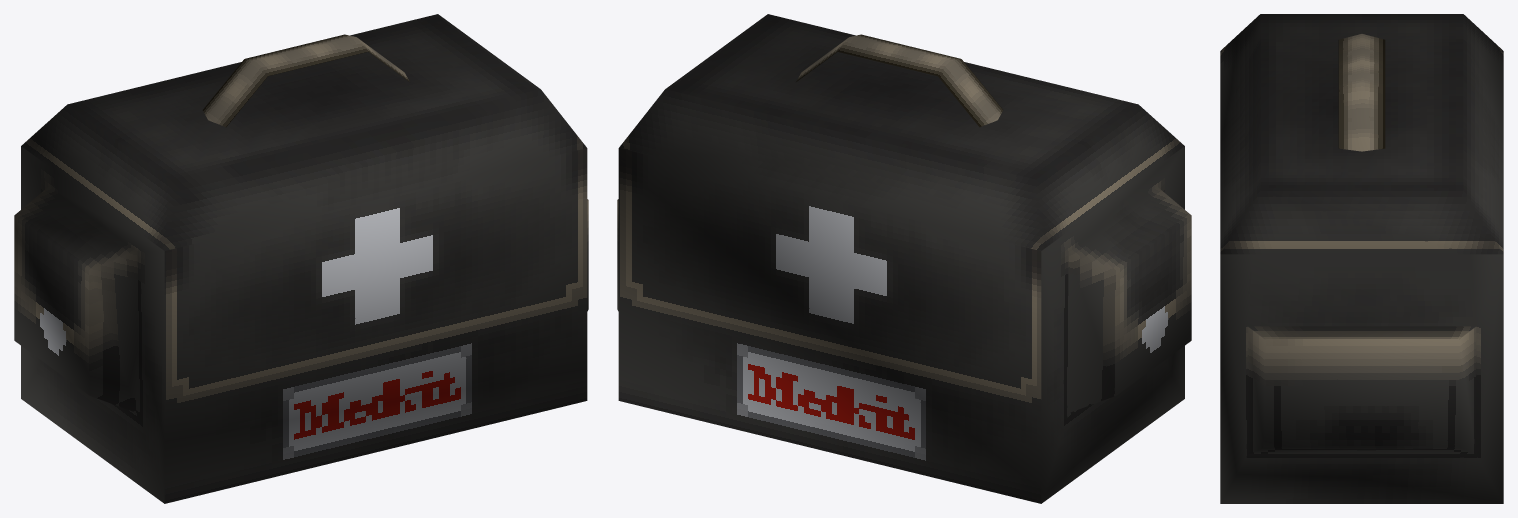
The model's file is Medkit.glb.
3 renders of one model, left to right at view 1: azimuth 30°, elevation 25°; view 2: azimuth 150°, elevation 25°; view 3: azimuth 270°, elevation 25°, orthographic.
Parts seen in each view (by area): view 1: Medkit; view 2: Medkit; view 3: Medkit.
Part boxes in pixels (<box>): Medkit: <box>14,14,588,503</box>; Medkit: <box>617,14,1191,503</box>; Medkit: <box>1220,14,1503,503</box>.
Bounding box in the file's own units: 0.5096 × 0.3498 × 0.2601.
Materials: 1 (1 with a texture image).
